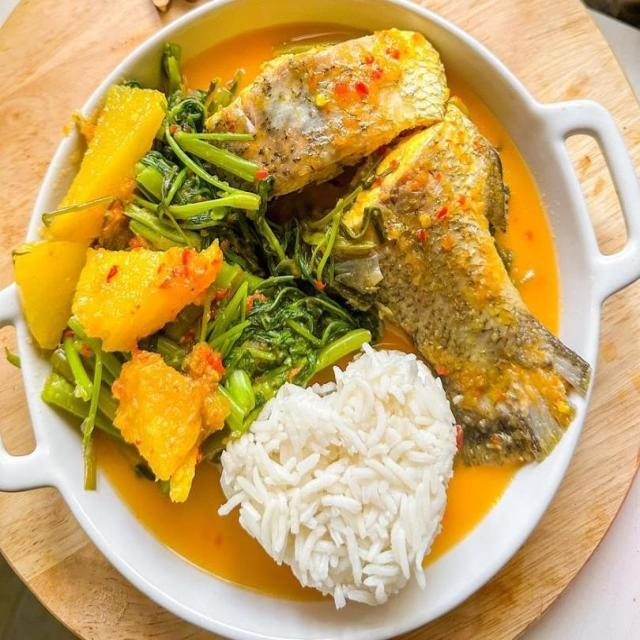Fish: (205, 25, 591, 466)
Plate: (385, 0, 639, 364)
Rice: (217, 348, 461, 611)
Vegetables: (12, 39, 384, 508)
